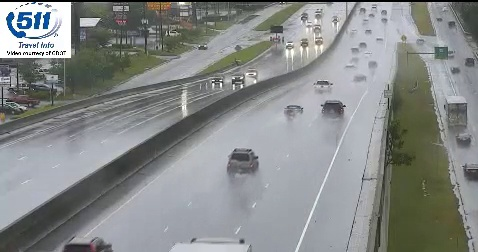car: (228, 149, 258, 173), (322, 100, 344, 118), (314, 80, 332, 93), (284, 105, 303, 117)
